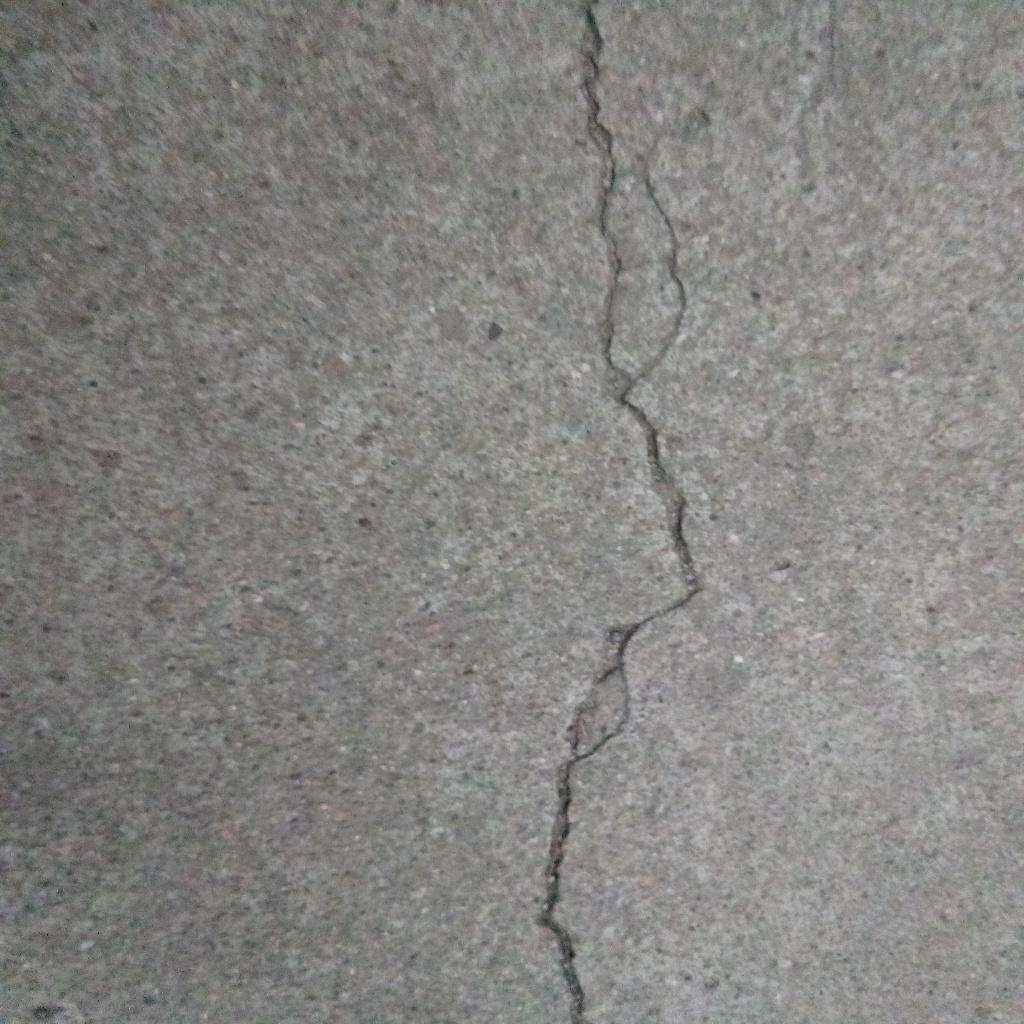Crack: (534, 1, 706, 1024)
